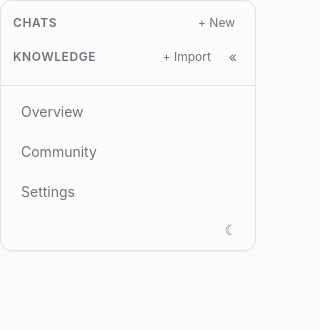
Scenario: Import Flow › disables import button while importing
The width and height of the screenshot is (320, 330).
Click the button with test id "import-button" at [187, 57], box [155,47,219,67]
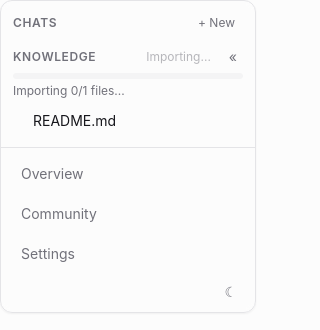
expect the button with test id "import-button" is disabled: met, box [138,47,219,67]
expect the button with test id "import-button" reads "Importing...": met, box [138,47,219,67]
